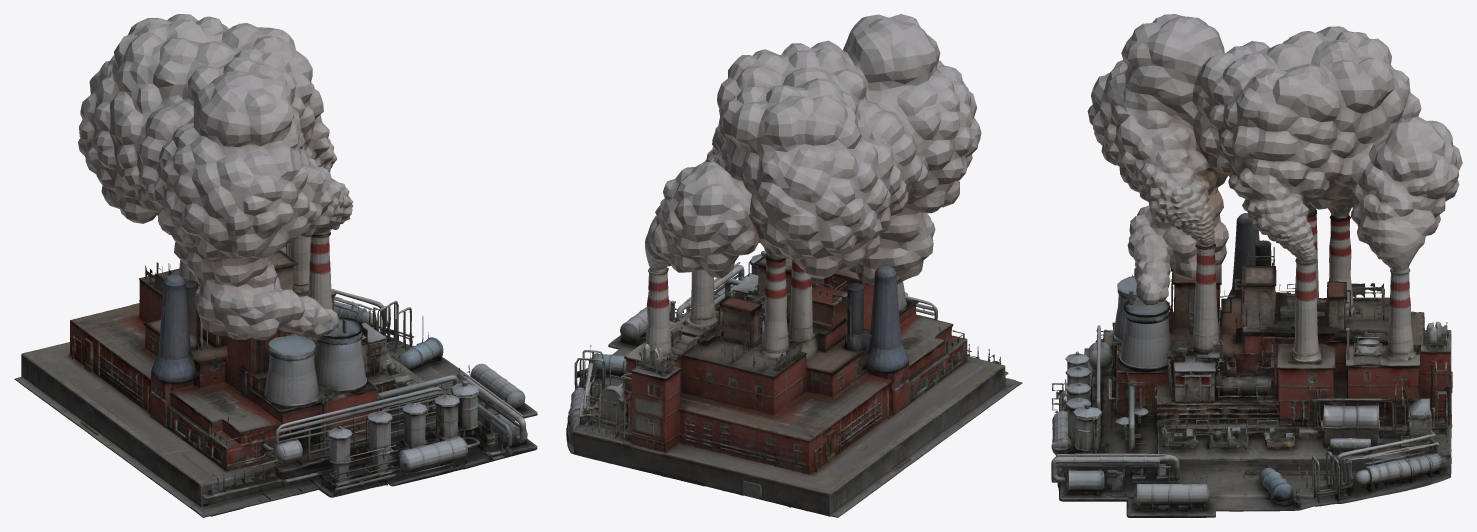
Rendered from factory.glb.
3 renders of one model, left to right at view 1: azimuth 30°, elevation 25°; view 2: azimuth 150°, elevation 25°; view 3: azimuth 270°, elevation 25°, orthographic. The views are drawn at different scales.
Visible parts, largest first — view 1: tripo_node_19277f8a-7a0b-41fc-833e-fa6a899766bc; view 2: tripo_node_19277f8a-7a0b-41fc-833e-fa6a899766bc; view 3: tripo_node_19277f8a-7a0b-41fc-833e-fa6a899766bc.
Part boxes in pixels (x1,y1,x2,y2): tripo_node_19277f8a-7a0b-41fc-833e-fa6a899766bc: (14, 14, 537, 517); tripo_node_19277f8a-7a0b-41fc-833e-fa6a899766bc: (566, 14, 1022, 517); tripo_node_19277f8a-7a0b-41fc-833e-fa6a899766bc: (1051, 14, 1462, 517).
Size of the model in its own units: 0.9584 by 0.9924 by 0.9884.
1 material, 1 textured.
